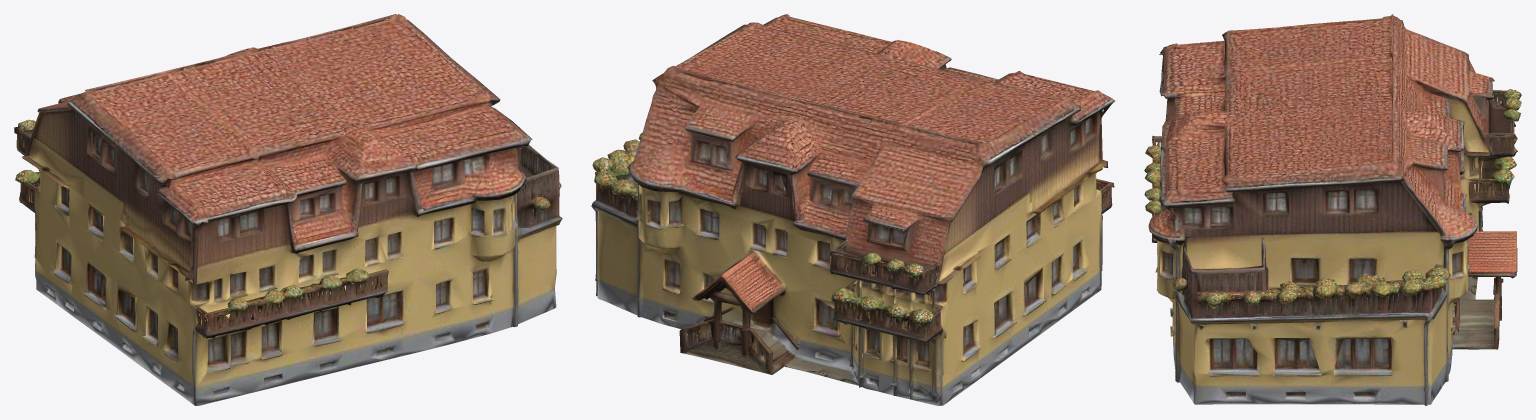
The model's file is ruebezahlbaude.glb.
3 views of the same model, side by side, from view 1: azimuth 30°, elevation 25°; view 2: azimuth 150°, elevation 25°; view 3: azimuth 270°, elevation 25° (orthographic). The views are drawn at different scales.
Parts seen in each view (by area): view 1: tripo_node_7606309d-9082-47f6-8a3b-a22233b7ba65; view 2: tripo_node_7606309d-9082-47f6-8a3b-a22233b7ba65; view 3: tripo_node_7606309d-9082-47f6-8a3b-a22233b7ba65.
Part boxes in pixels (x1,y1,x2,y2): tripo_node_7606309d-9082-47f6-8a3b-a22233b7ba65: (14, 14, 562, 405); tripo_node_7606309d-9082-47f6-8a3b-a22233b7ba65: (591, 14, 1115, 405); tripo_node_7606309d-9082-47f6-8a3b-a22233b7ba65: (1144, 14, 1521, 405).
Bounding box in the file's own units: 1 × 0.5582 × 0.8662.
1 material, 1 textured.
